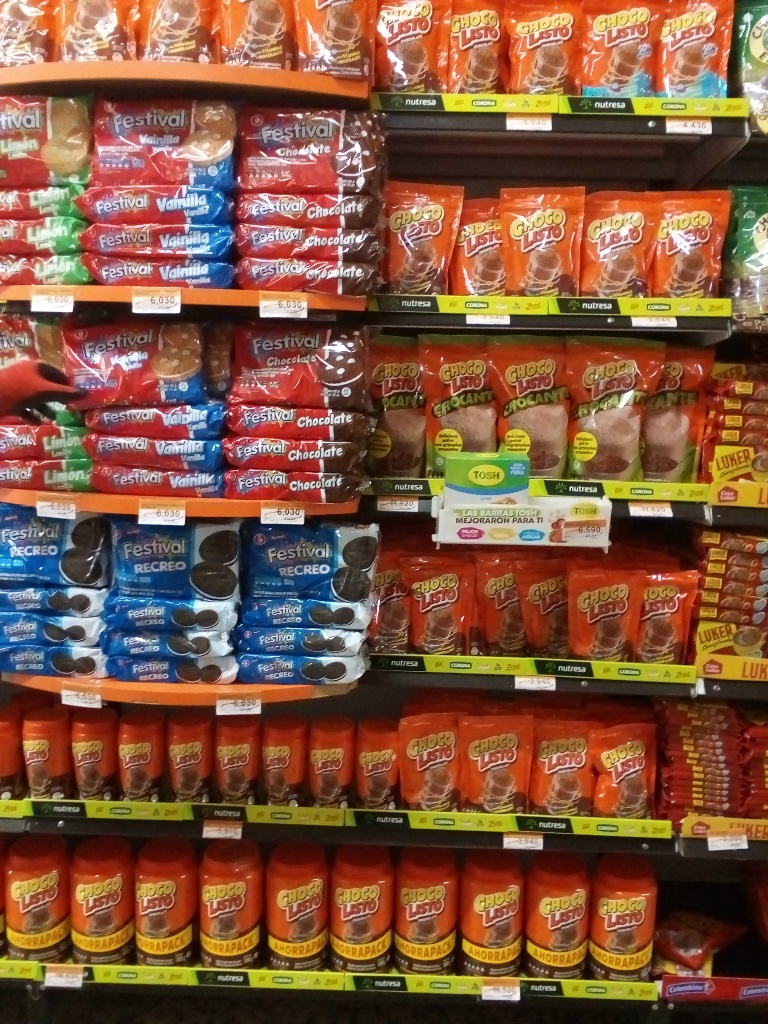COL0170103TRR00100: (591, 854, 666, 983)
COL0170104DYP20000: (663, 0, 732, 97)
